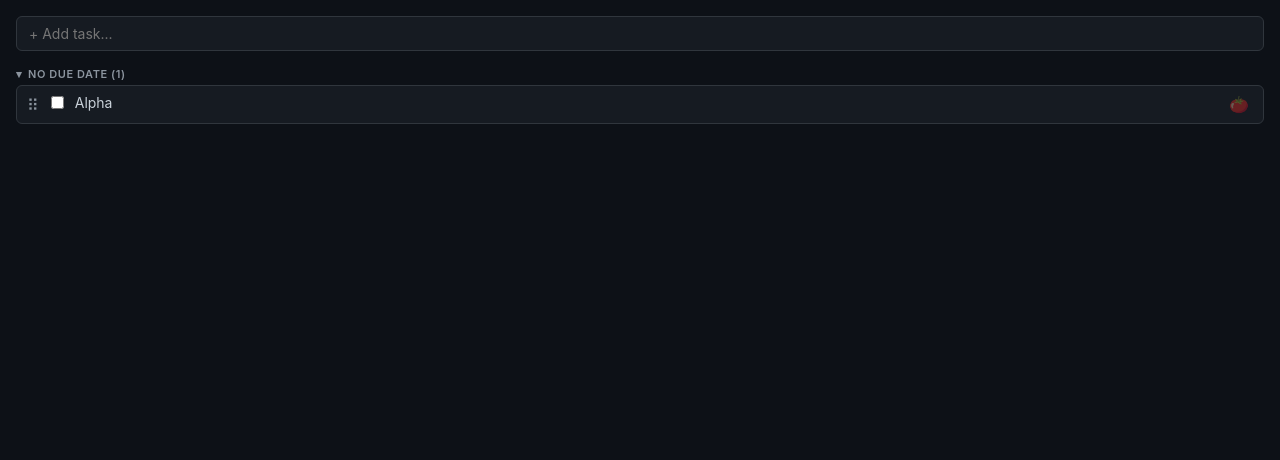
opens detail panel when task is clicked
This screenshot has width=1280, height=460.
Click the button "Alpha".
click(94, 102)  # box [75, 94, 112, 111]
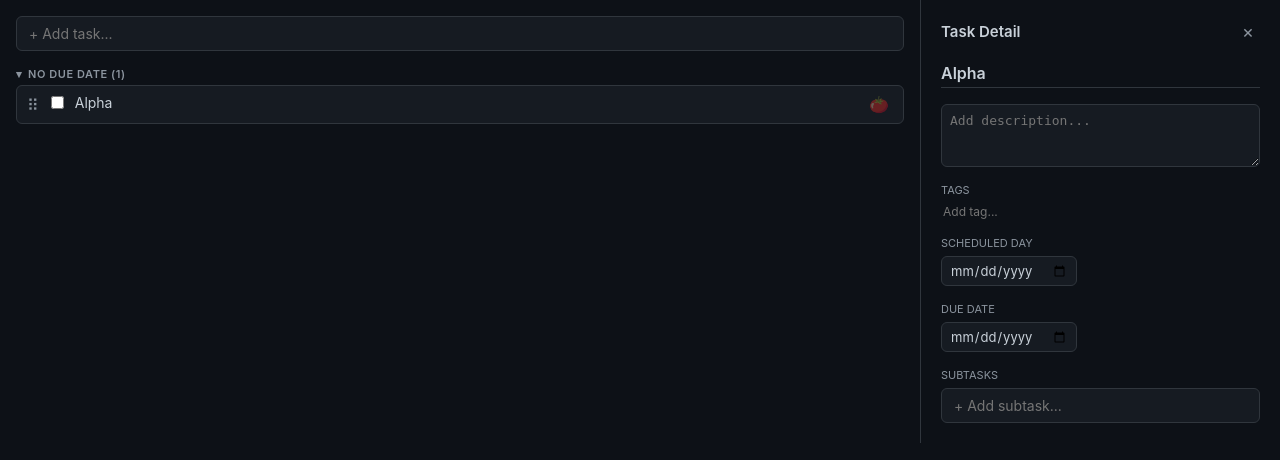
Expected: the text "Task Detail" is shown, [941, 22, 1020, 41]
